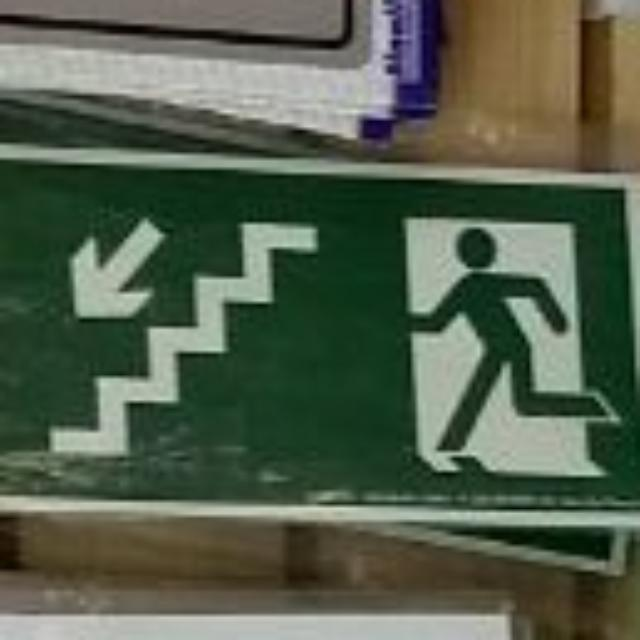exit: (5, 149, 635, 526)
